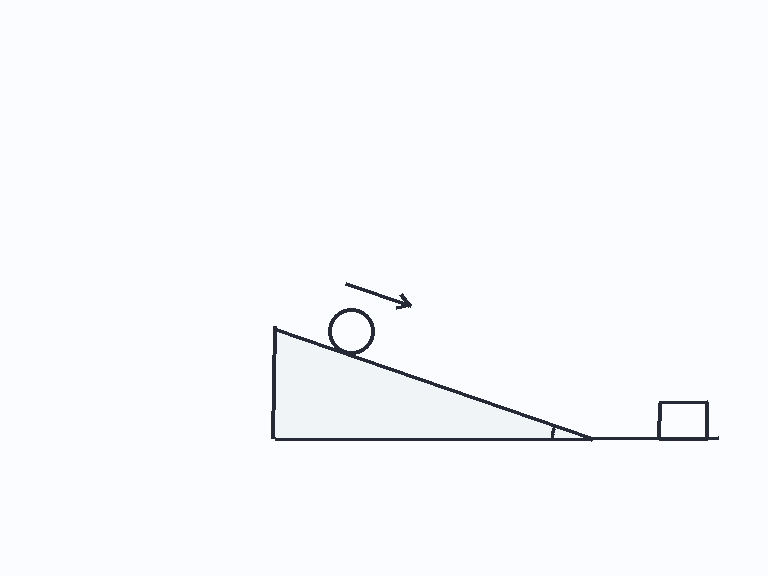ball: (326, 306, 376, 356)
block: (657, 400, 709, 440)
ramp: (271, 326, 594, 440)
